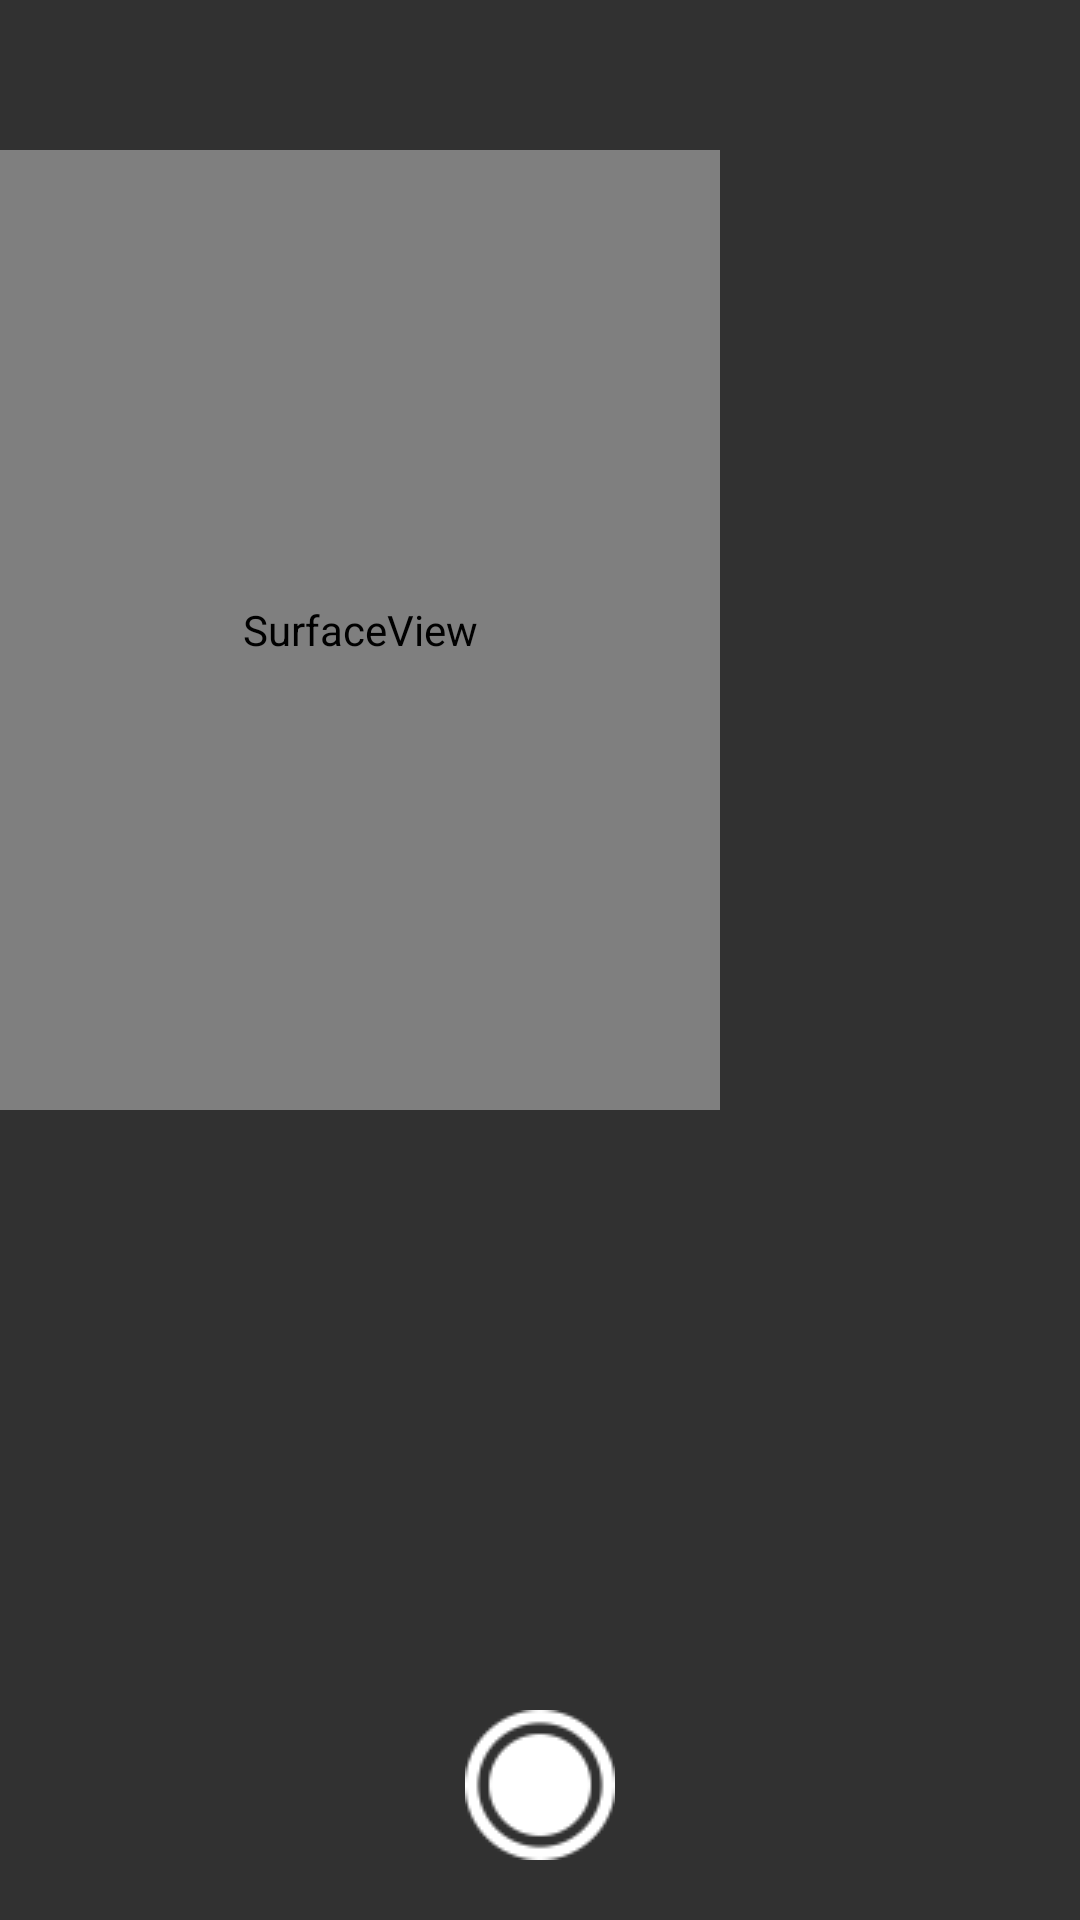

Where icons sit on this 1080w x 1920h app screen, as bbox=(x1, y1, x2, y2):
take: bbox=(465, 1710, 615, 1860)
